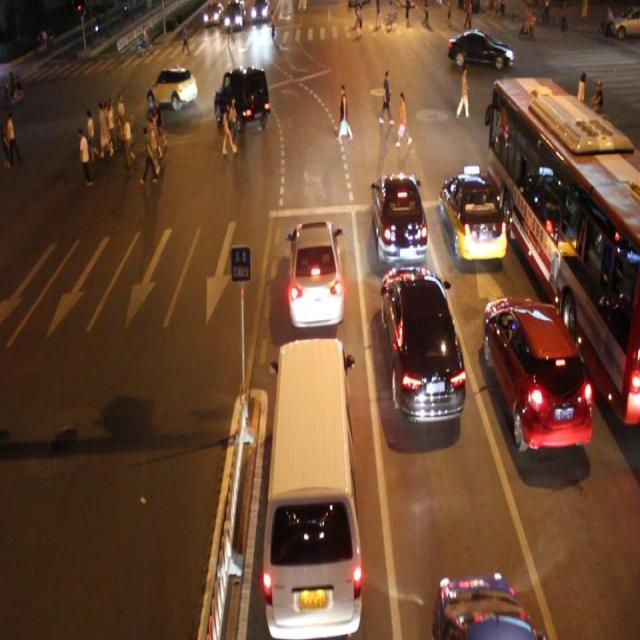car: (482, 294, 590, 448), (380, 262, 467, 415), (430, 570, 534, 640), (286, 218, 343, 326), (441, 170, 508, 260), (372, 167, 429, 264), (213, 65, 269, 128), (447, 28, 512, 68), (146, 68, 198, 110)
truck: (262, 336, 361, 632)
van: (491, 71, 640, 418)
